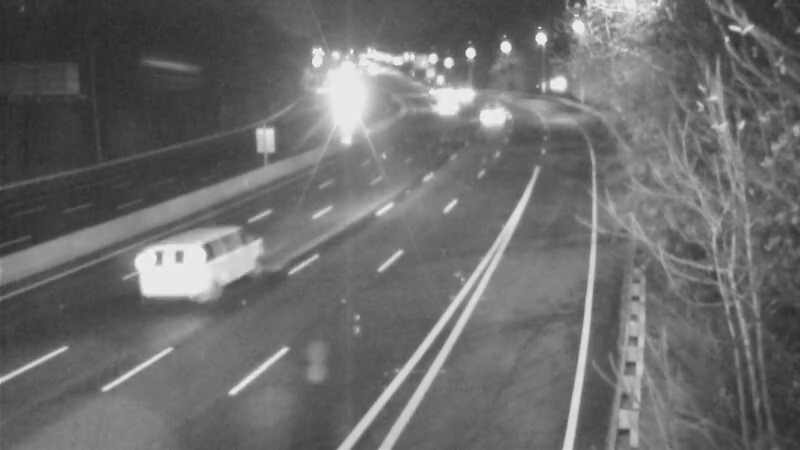vehicle: (143, 236, 223, 316), (405, 68, 455, 118), (438, 70, 488, 120), (424, 83, 474, 133), (469, 86, 519, 136)
